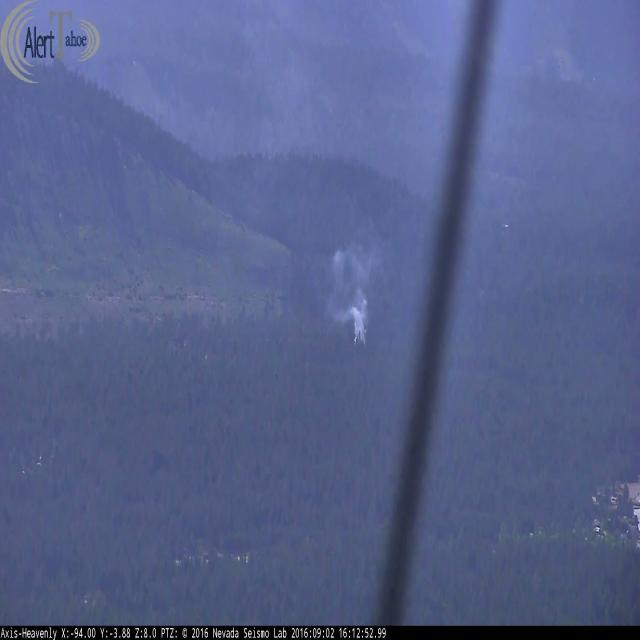smoke: (329, 252, 376, 348)
